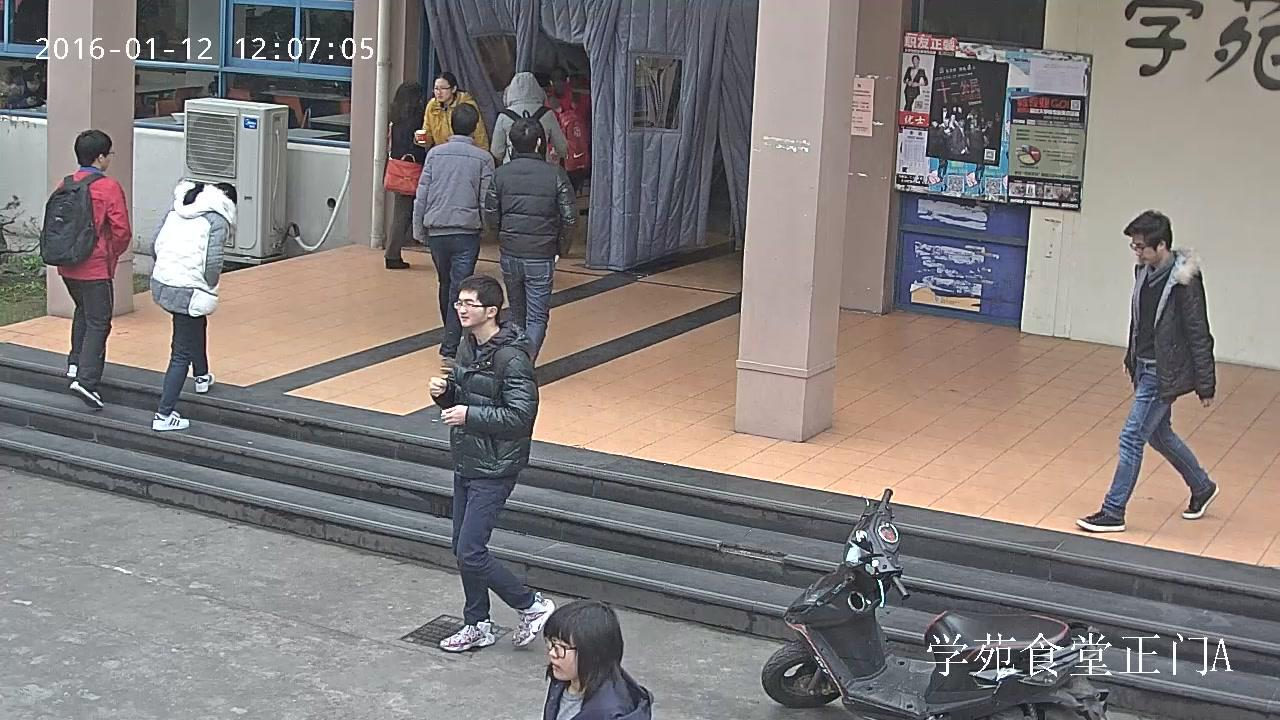person: (428, 275, 554, 653), (1076, 210, 1220, 532), (40, 130, 132, 409), (485, 117, 577, 370), (411, 102, 496, 372), (150, 177, 237, 430), (542, 598, 652, 720), (382, 82, 426, 268), (489, 71, 566, 169), (539, 64, 592, 198), (413, 72, 490, 154), (3, 65, 46, 109), (903, 54, 928, 112)
